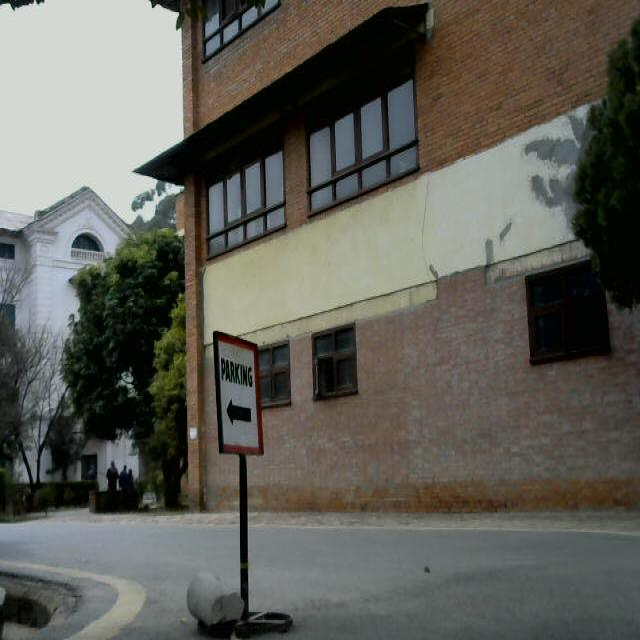Buildings: (172, 0, 634, 519)
Parking: (193, 326, 302, 640)
Road: (13, 521, 640, 639)
trees: (72, 242, 194, 492), (0, 266, 63, 508)
